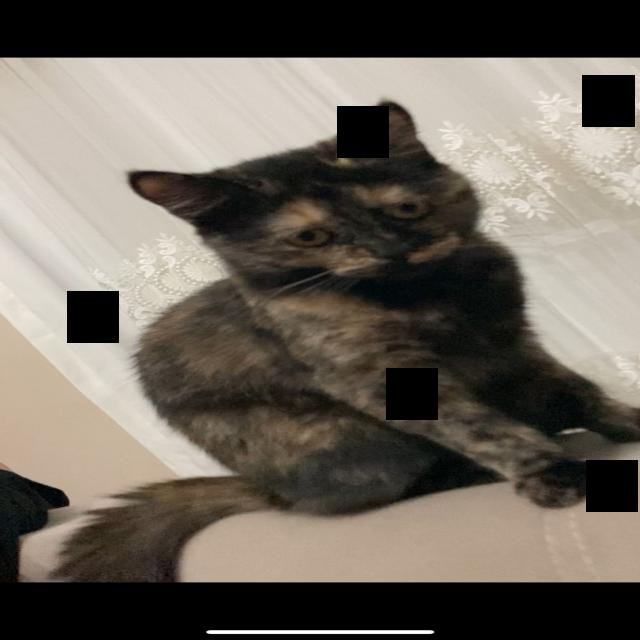authorized: (45, 99, 638, 582)
